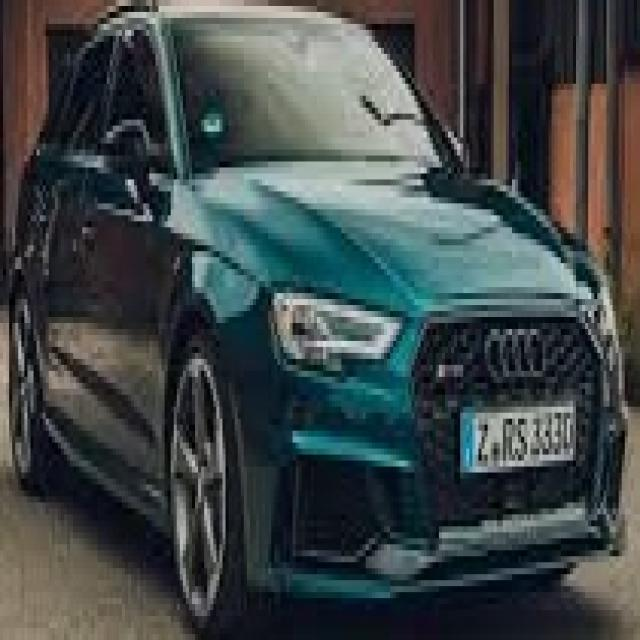black: (21, 0, 640, 634)
